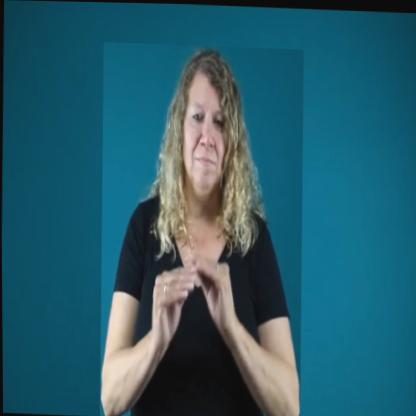Fix: (96, 41, 305, 416)
